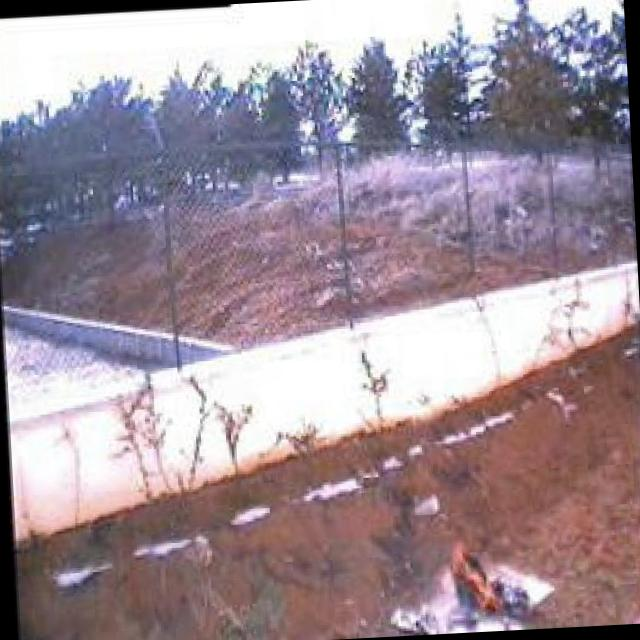Fire: (440, 530, 523, 624)
